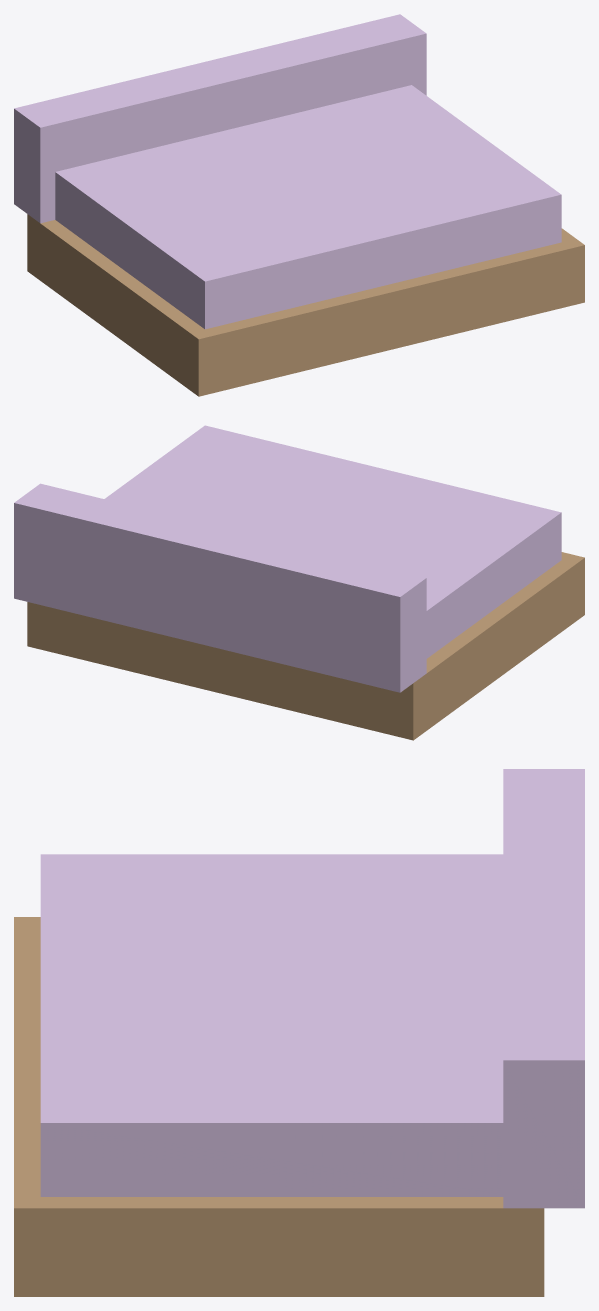
The model's file is Prop_Pet_AMF_Bed_V14.glb.
The picture shows the model from 3 angles, top to bottom: view 1: azimuth 30°, elevation 25°; view 2: azimuth 150°, elevation 25°; view 3: azimuth 270°, elevation 25°; orthographic projection. The views are drawn at different scales.
Visible parts, largest first — view 1: Prop_Pet_AMF_Bed_V14; view 2: Prop_Pet_AMF_Bed_V14; view 3: Prop_Pet_AMF_Bed_V14.
Part boxes in pixels (bbox=[...]): Prop_Pet_AMF_Bed_V14: bbox=[14, 14, 584, 396]; Prop_Pet_AMF_Bed_V14: bbox=[14, 425, 584, 740]; Prop_Pet_AMF_Bed_V14: bbox=[14, 769, 584, 1296].
Size of the model in its own units: 0.845 by 0.32 by 0.7.
